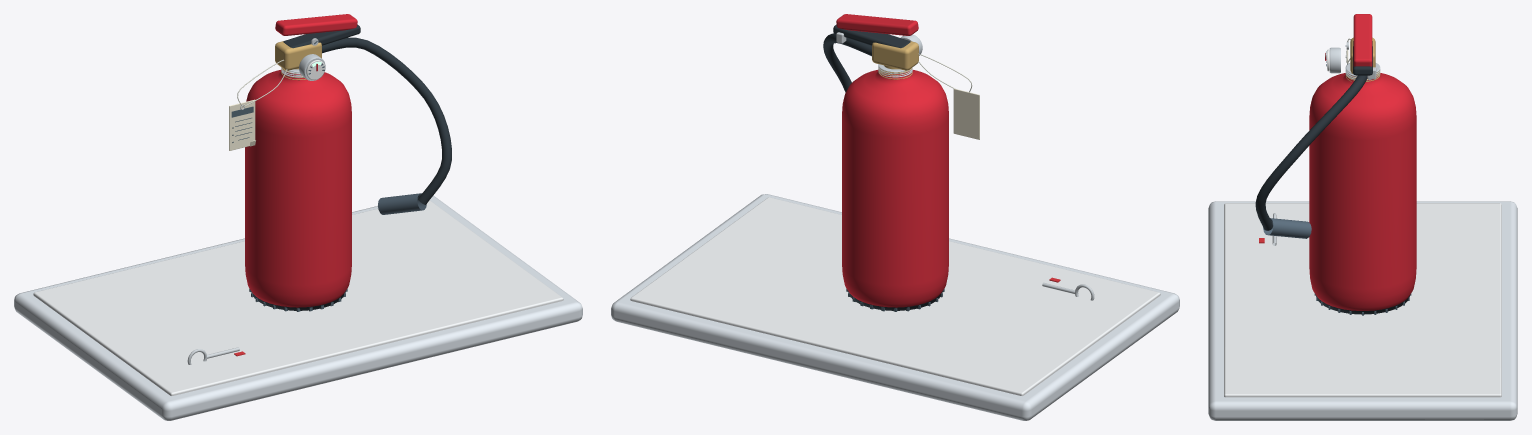
The model's file is fire-aimed.glb.
The picture shows the model from 3 angles, left to right: view 1: azimuth 30°, elevation 25°; view 2: azimuth 150°, elevation 25°; view 3: azimuth 270°, elevation 25°; orthographic projection.
Visible parts, largest first — view 1: fire-aimed; view 2: fire-aimed; view 3: fire-aimed.
Part boxes in pixels (<box>): fire-aimed: <box>14,14,582,420</box>; fire-aimed: <box>611,14,1179,420</box>; fire-aimed: <box>1208,14,1517,420</box>.
Size of the model in its own units: 0.77 by 0.5218 by 0.49.
